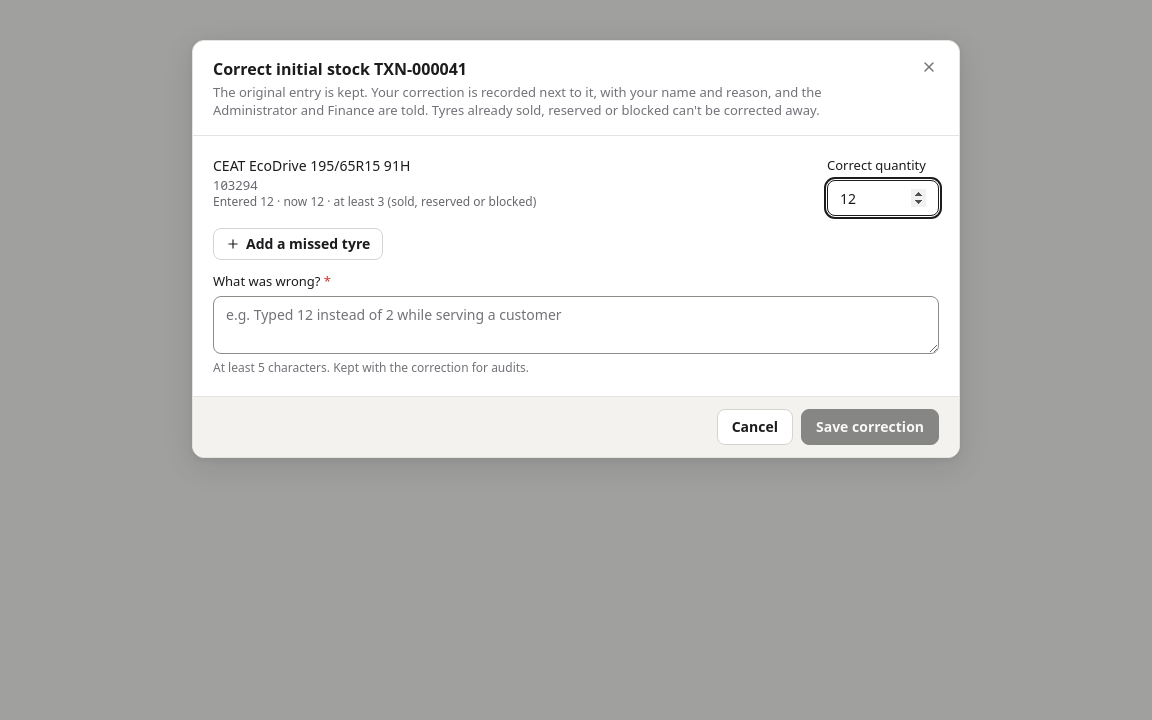
Test: CorrectInitialStockModal › won't go below what is sold or reserved, needs a reason, and sends only the changed tyres
This screenshot has width=1152, height=720.
Later steps or results of the test are not shown.
Note: 3 of the 12 are sold or reserved: 2 is too low.
Replace the text in the number field named "Correct quantity for 103294" with "2": (883, 198) left=827, top=180, right=939, bottom=216
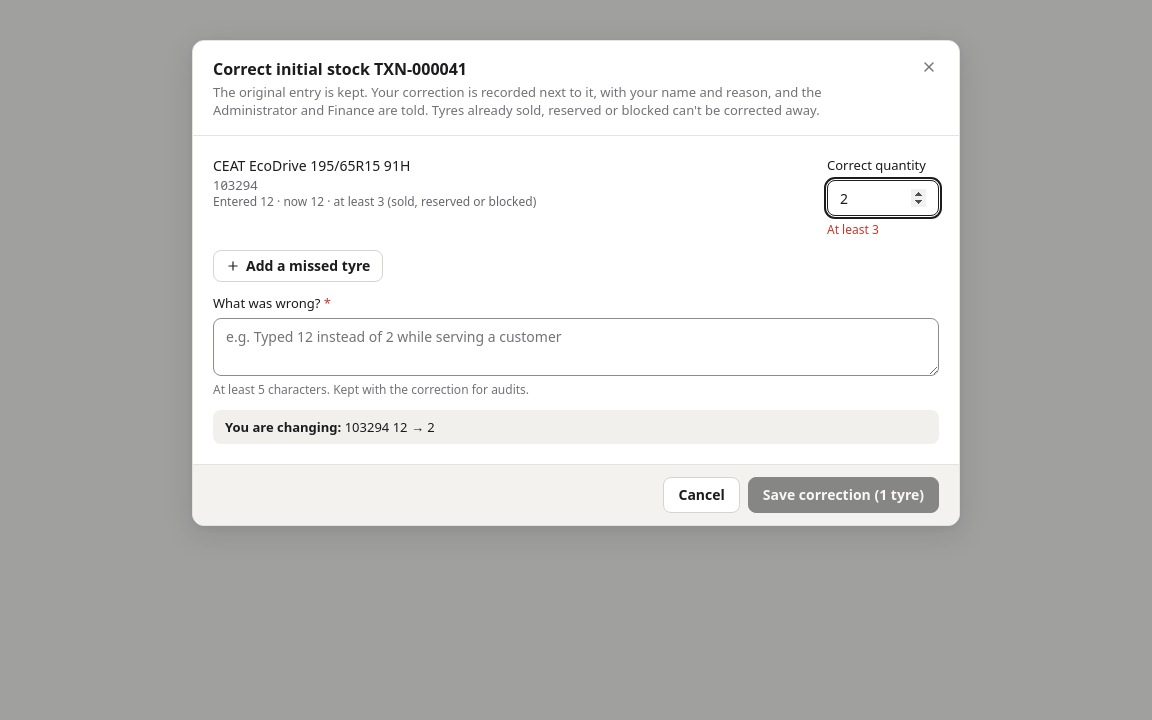
Check: the button "Save correction (1 tyre)" is disabled, box left=748, top=477, right=939, bottom=513
Check: the text "At least 3" is shown, box left=827, top=221, right=879, bottom=238
Note: The right figure, but no reason yet.
Replace the text in the number field named "Correct quantity for 103294" with "3": (883, 198) left=827, top=180, right=939, bottom=216
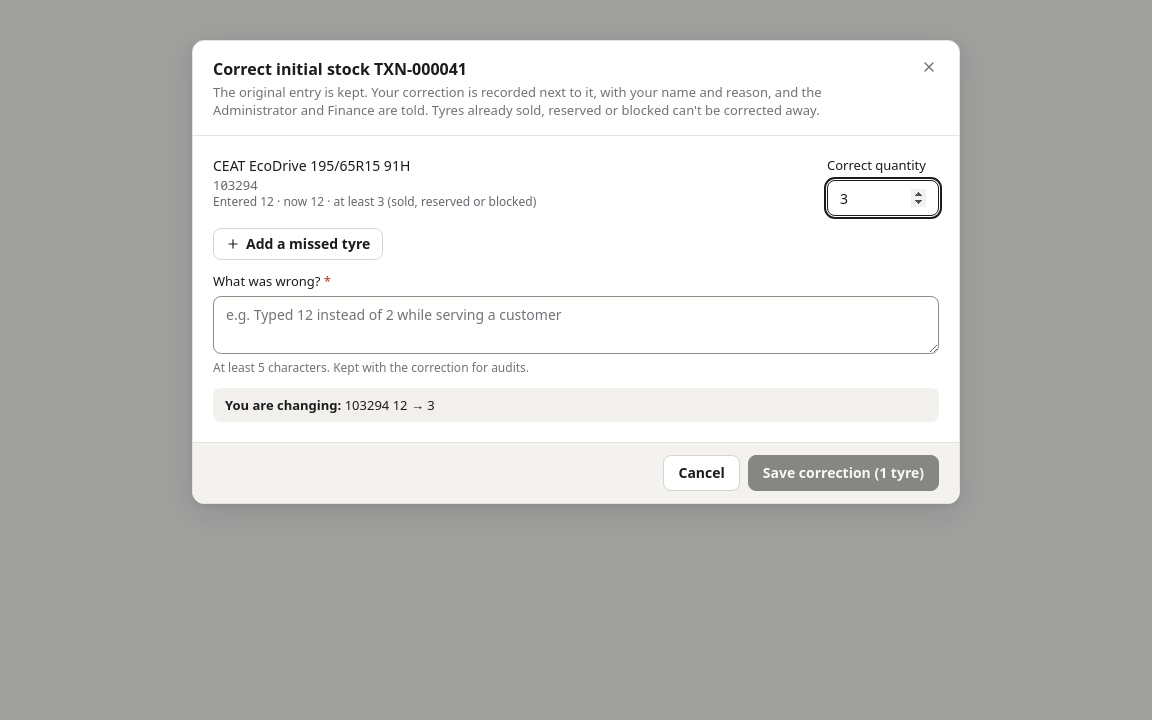
Check: the button "Save correction (1 tyre)" is disabled, box left=748, top=455, right=939, bottom=491
Check: the text "You are changing: 103294 12 → 3" is shown, box left=213, top=388, right=939, bottom=422
In the text box labelled "What was wrong? *": (576, 325) left=213, top=296, right=939, bottom=354, type "Typed 12 instead of 3"
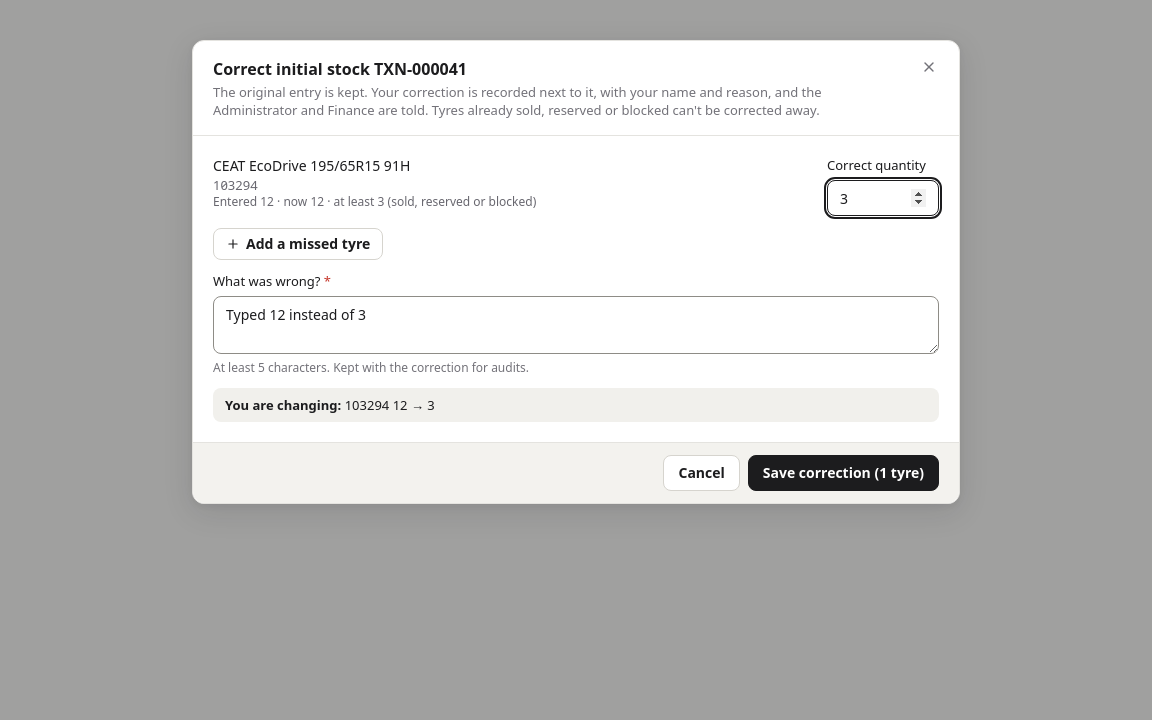
Check: the button "Save correction (1 tyre)" is enabled, box left=748, top=455, right=939, bottom=491
